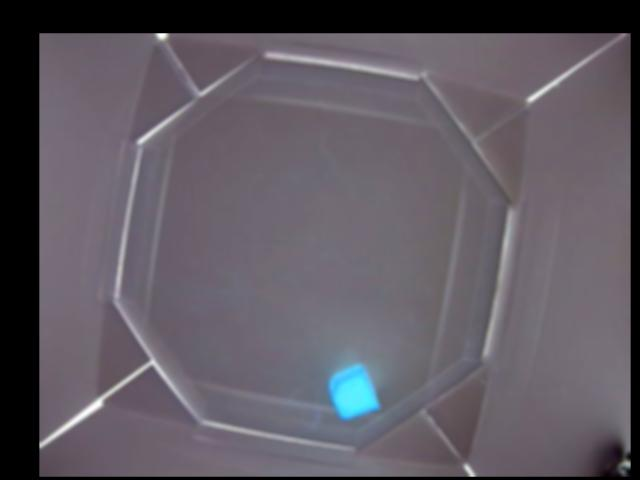Carrot: (328, 363, 380, 419)
